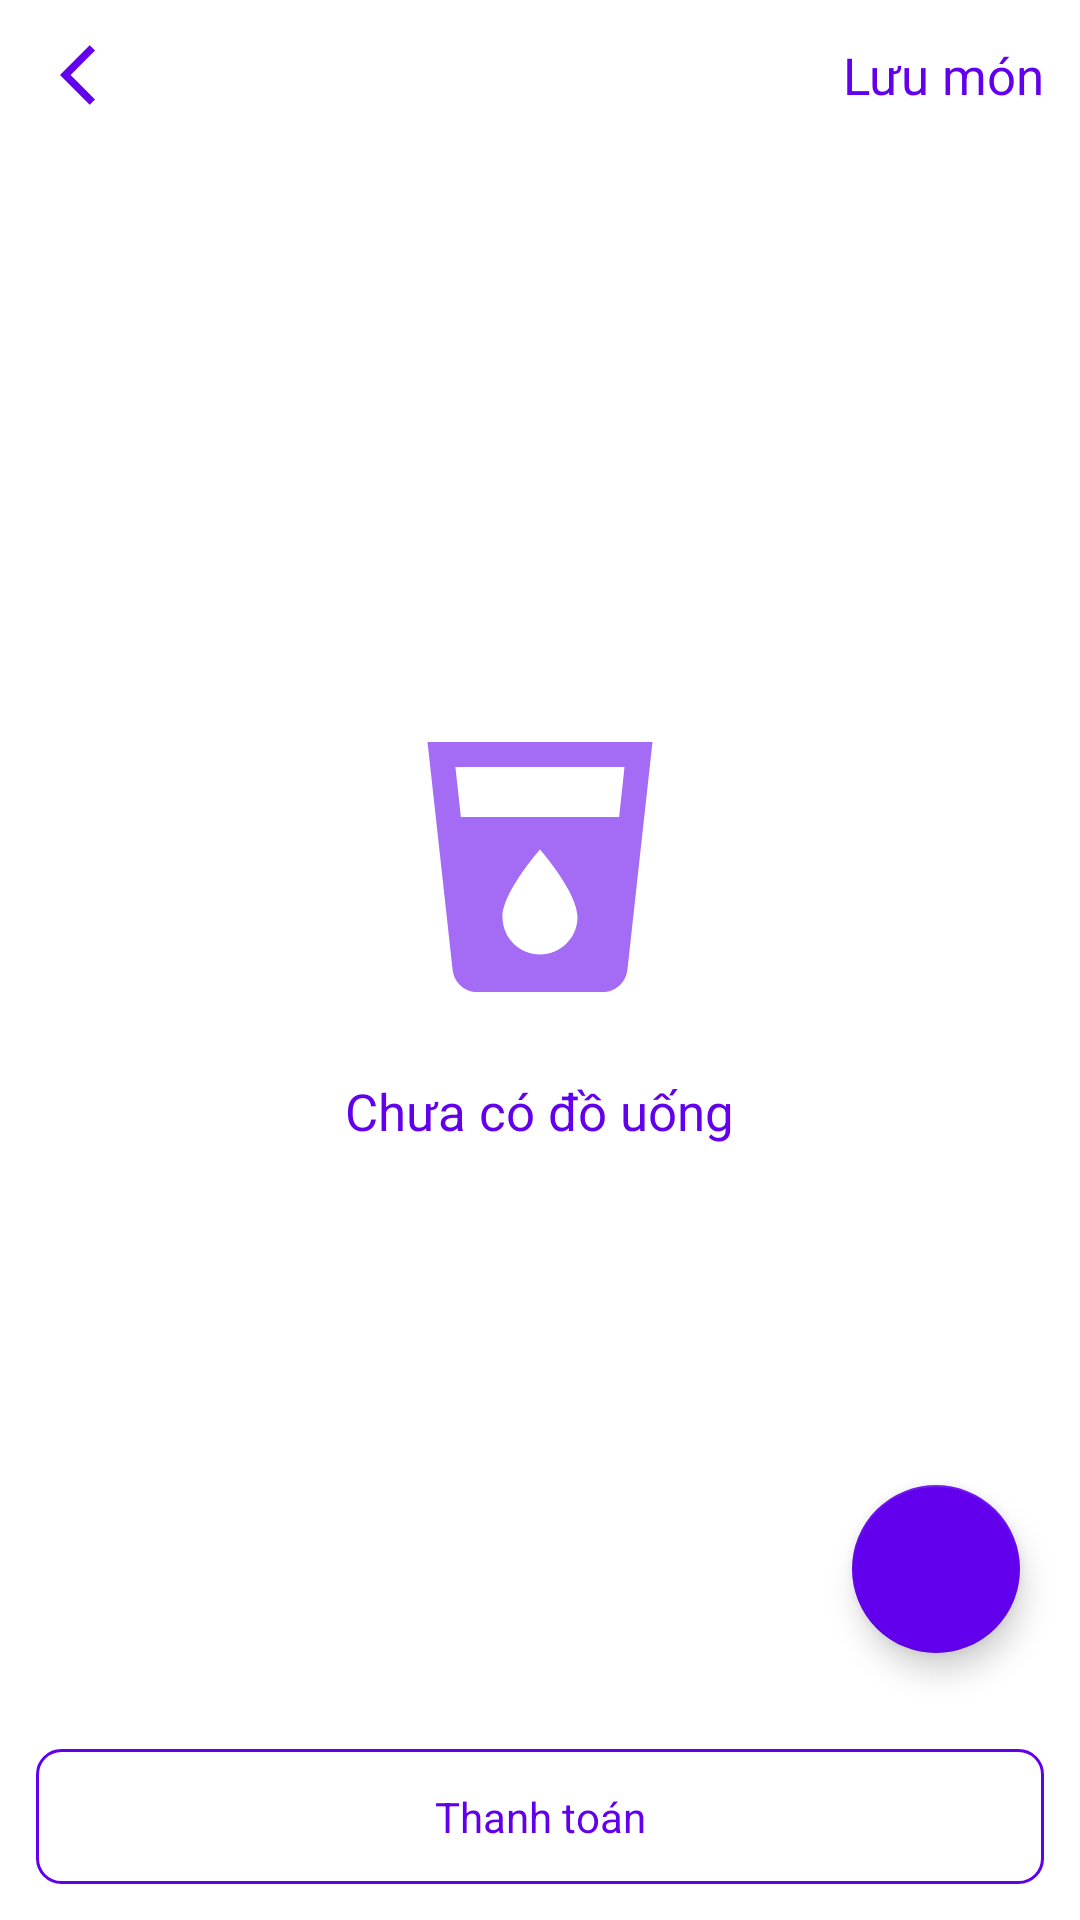

Icon bounding boxes for this 1080*1920 phone screenshot, format box=[x1, y1, x2, y2]:
arrow back: box=[60, 45, 95, 105]
local drink: box=[427, 742, 653, 992]
